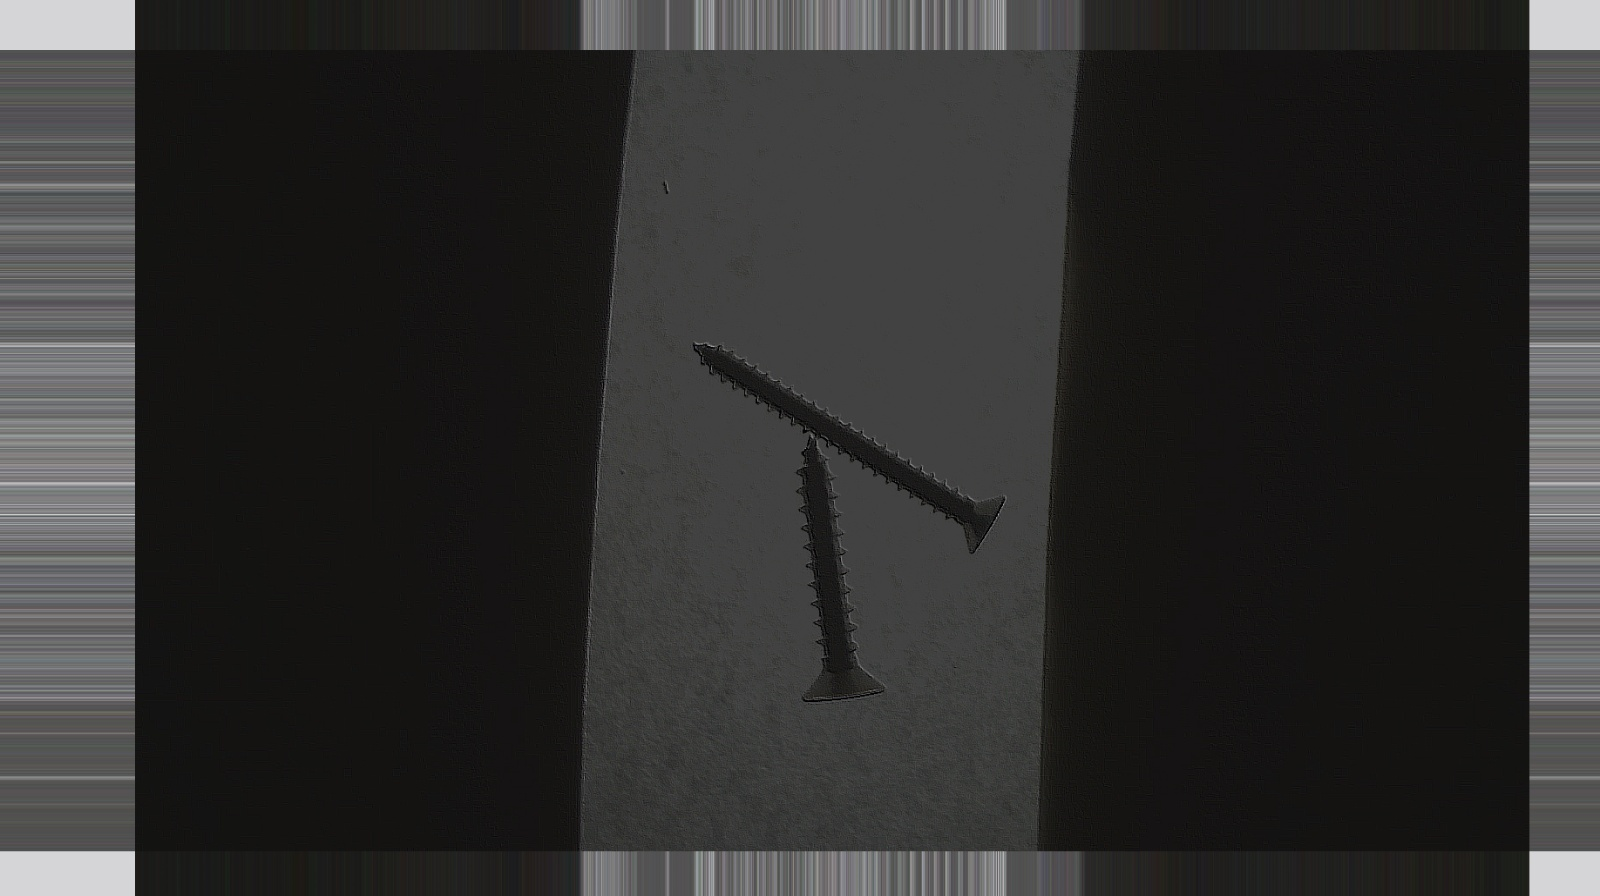S001: (774, 428, 892, 705)
S002: (688, 338, 1008, 558)
